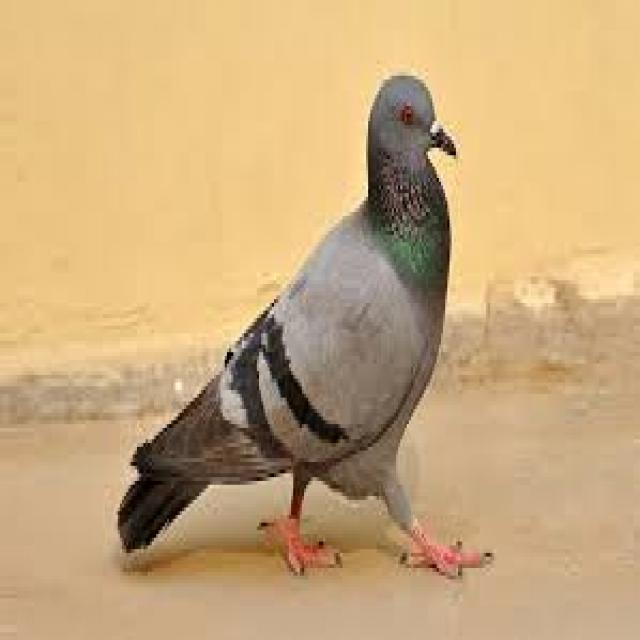bird: (116, 69, 497, 583)
